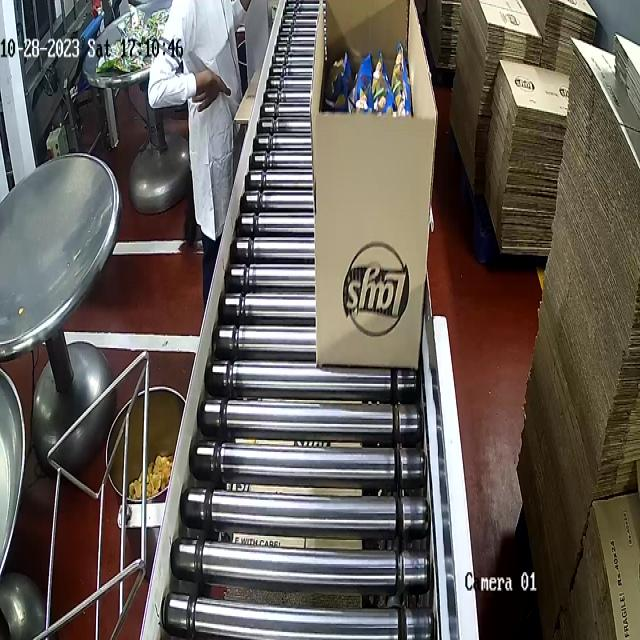PAPRIKA: (320, 46, 412, 112)
